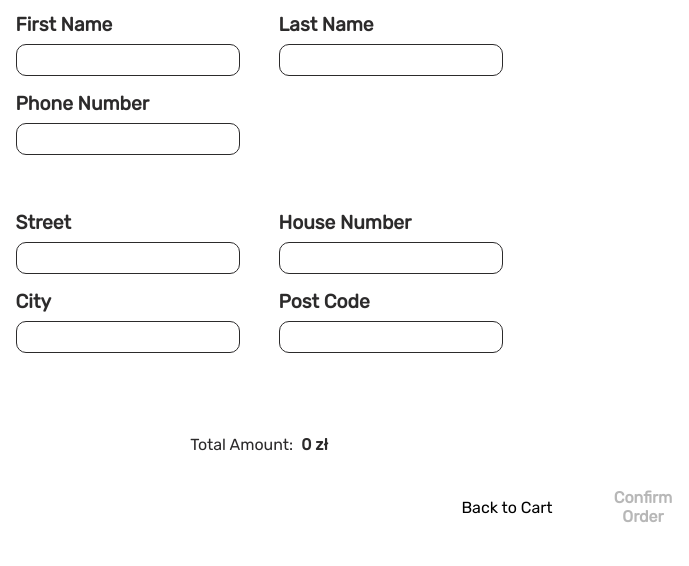
Summary › Shows required error messages
What coordinates should you click on to do the following:
click the field labelled "Last Name"
I would click on:
 (390, 60)
Its box is left=278, top=44, right=502, bottom=76.
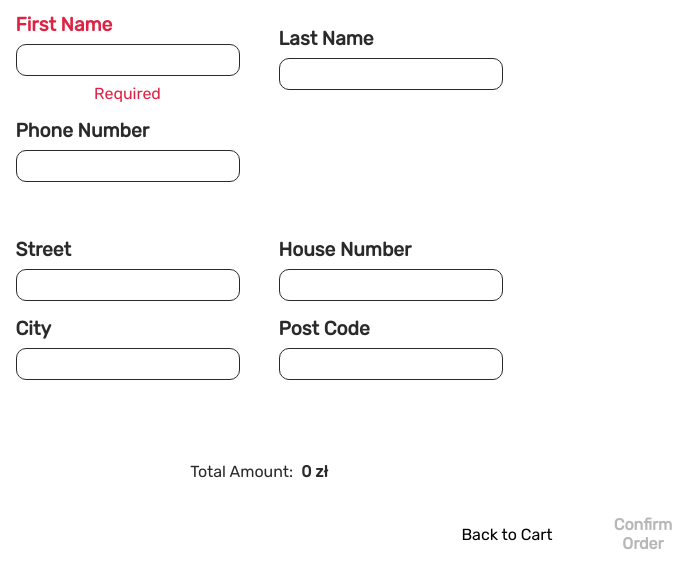
Expected: the text "Required" is shown once, left=94, top=84, right=161, bottom=103
